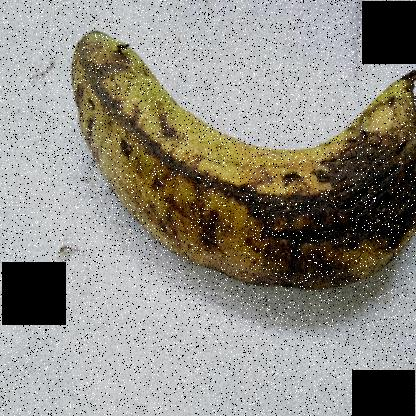rotten: (34, 20, 415, 310)
